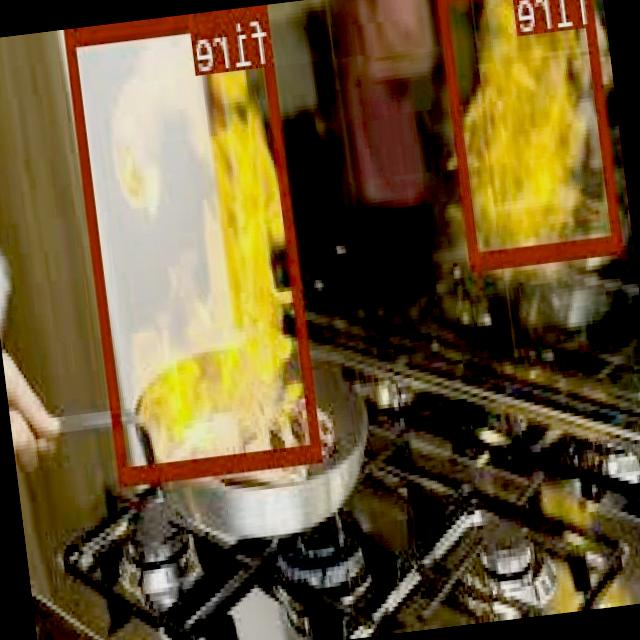fire: (67, 4, 324, 479), (436, 0, 624, 264)
